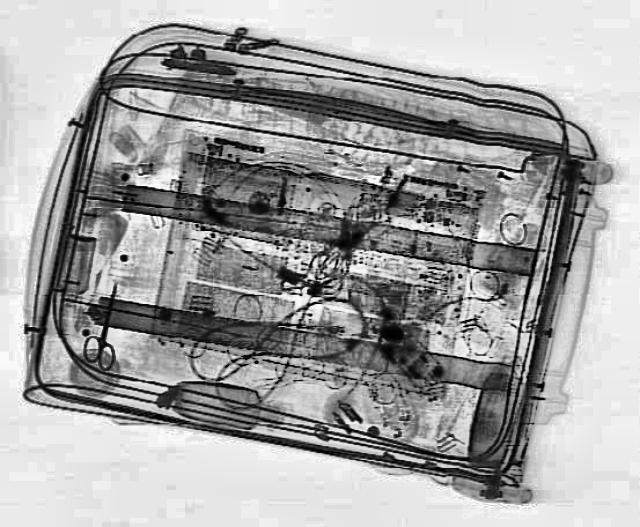Scissors: (76, 282, 134, 372)
